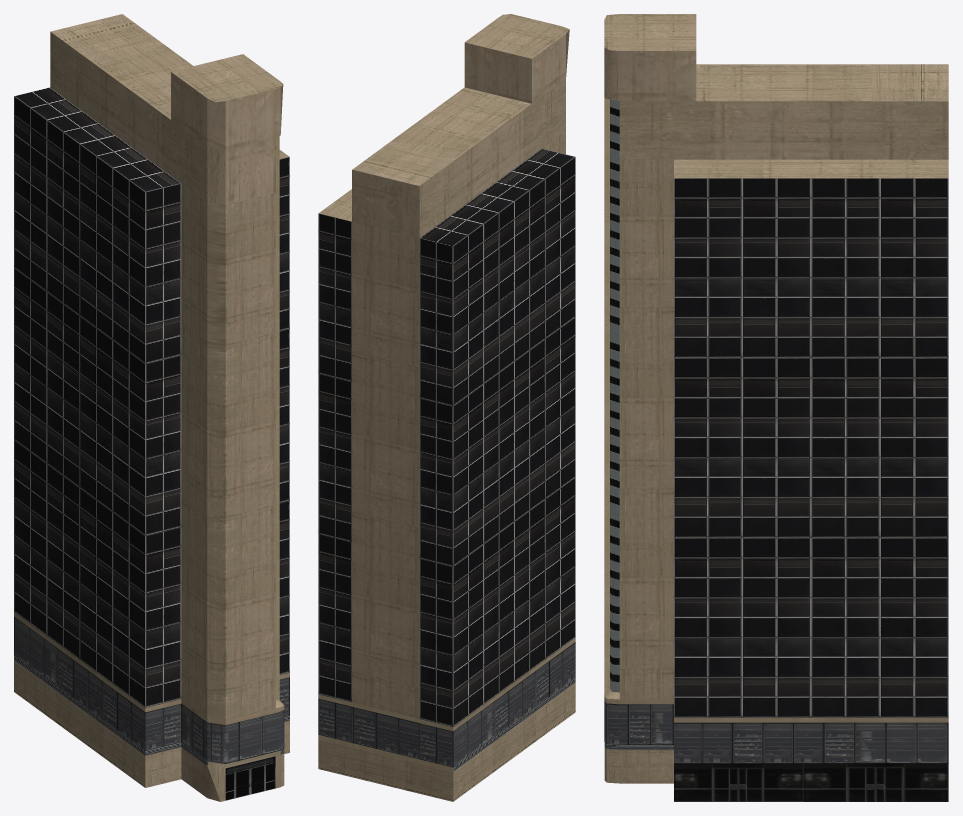
Rendered from Modern Building 17.FBX.
3 renders of one model, left to right at view 1: azimuth 30°, elevation 25°; view 2: azimuth 150°, elevation 25°; view 3: azimuth 270°, elevation 25°, orthographic. The views are drawn at different scales.
Parts seen in each view (by area): view 1: Modern Building 01; view 2: Modern Building 01; view 3: Modern Building 01.
Boxes of the visible parts, x1,y1,x2,y2 form: Modern Building 01: [14, 14, 289, 801]; Modern Building 01: [318, 14, 575, 801]; Modern Building 01: [604, 14, 948, 801].
Bounding box in the file's own units: 167 × 773 × 329.
